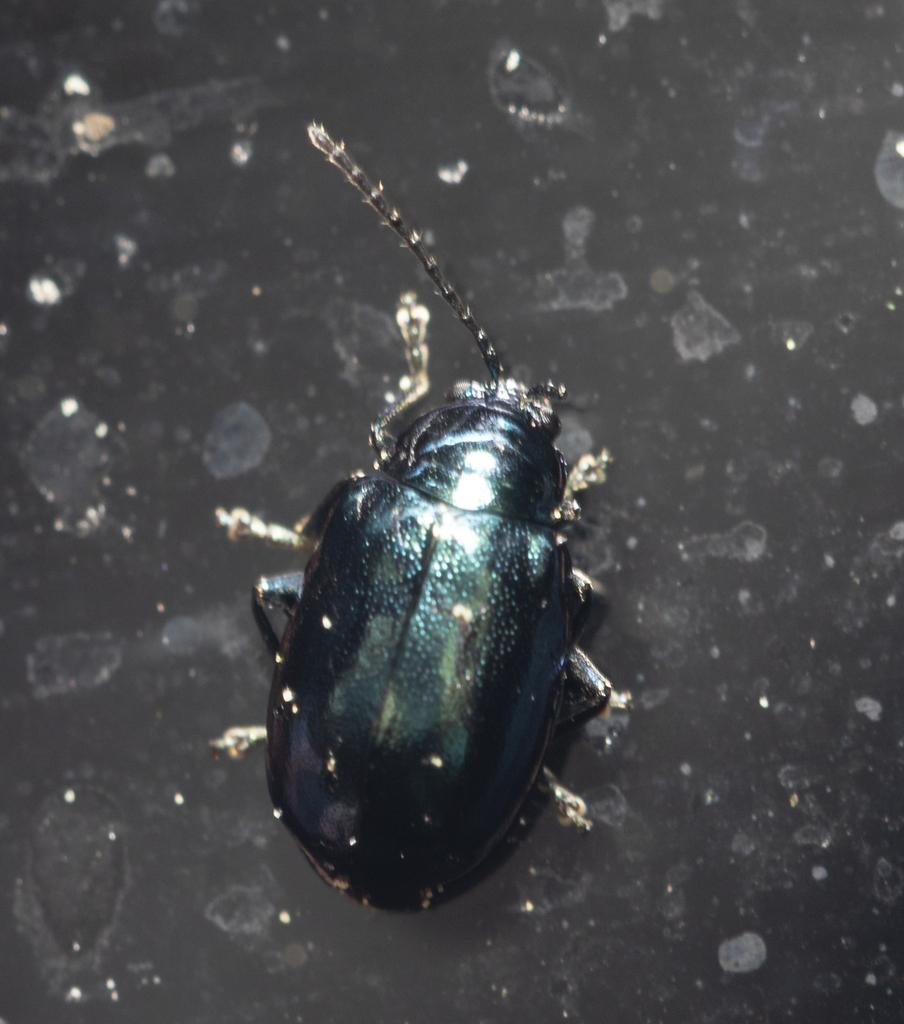flea_beetle: (159, 98, 730, 943)
